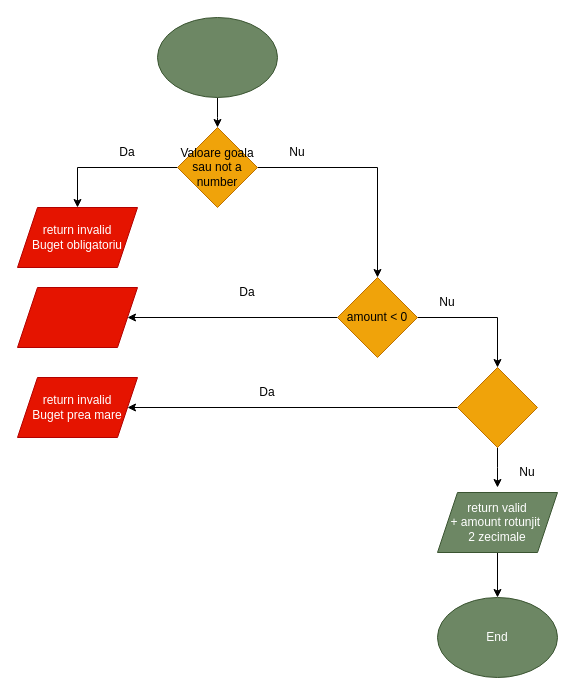
Image size: 575x695. Some labels were removed from this diagram. The centre of each missing label's shape, as x and y in pixels:
"amount > MAX_AMOUNT" goes at (497,407).
"Primeste valoare" goes at (217,57).
"return invalid Buget negativ" goes at (77,317).
